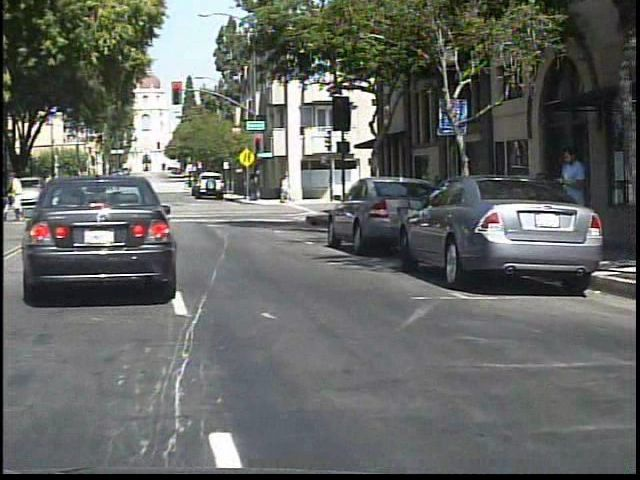person: (551, 141, 590, 262), (12, 173, 34, 221), (17, 174, 37, 208), (2, 175, 19, 210)
